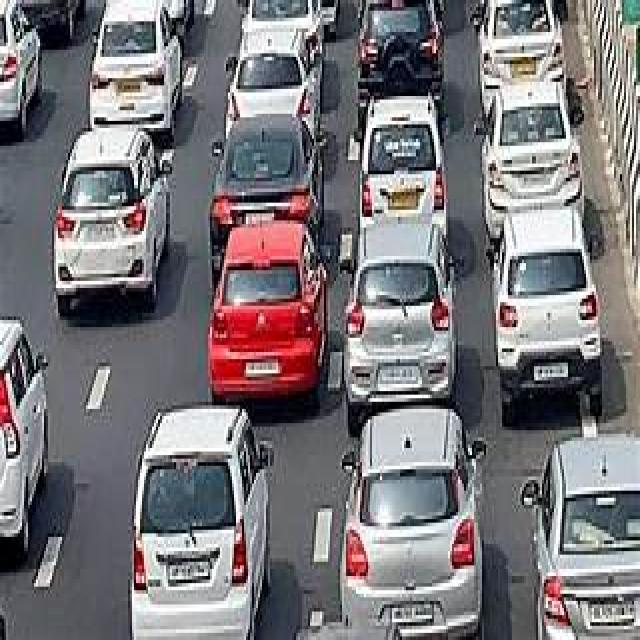Car: (339, 0, 486, 636), (474, 0, 602, 426), (208, 0, 338, 408), (52, 0, 199, 318), (131, 409, 274, 637), (520, 438, 640, 638), (0, 318, 49, 552)
